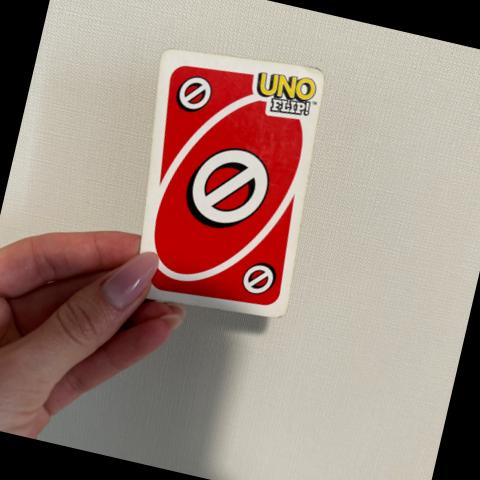lredskip-20: (160, 58, 235, 134)
